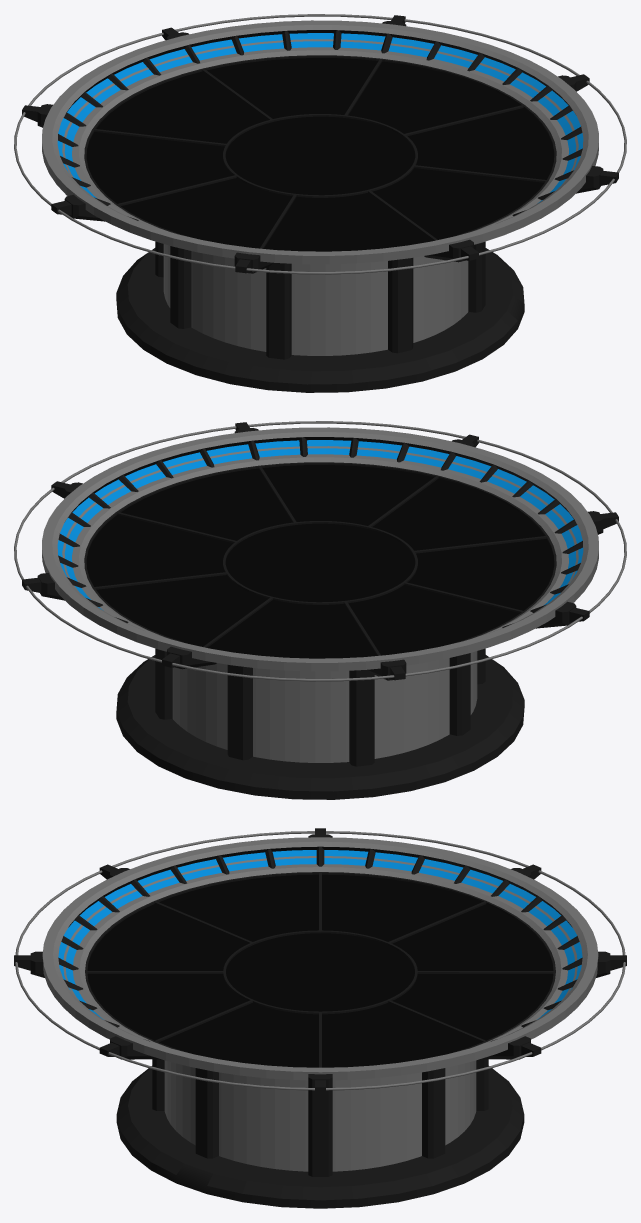
Rendered from SM_MapTable.FBX.
3 views of the same model, one above another, from view 1: azimuth 30°, elevation 25°; view 2: azimuth 150°, elevation 25°; view 3: azimuth 270°, elevation 25° (orthographic).
Parts seen in each view (by area): view 1: Box005; view 2: Box005; view 3: Box005.
Boxes of the visible parts, x1,y1,x2,y2 form: Box005: (14, 14, 626, 392); Box005: (14, 421, 626, 799); Box005: (14, 828, 626, 1208).
Size of the model in its own units: 33.08 by 10 by 33.08.
